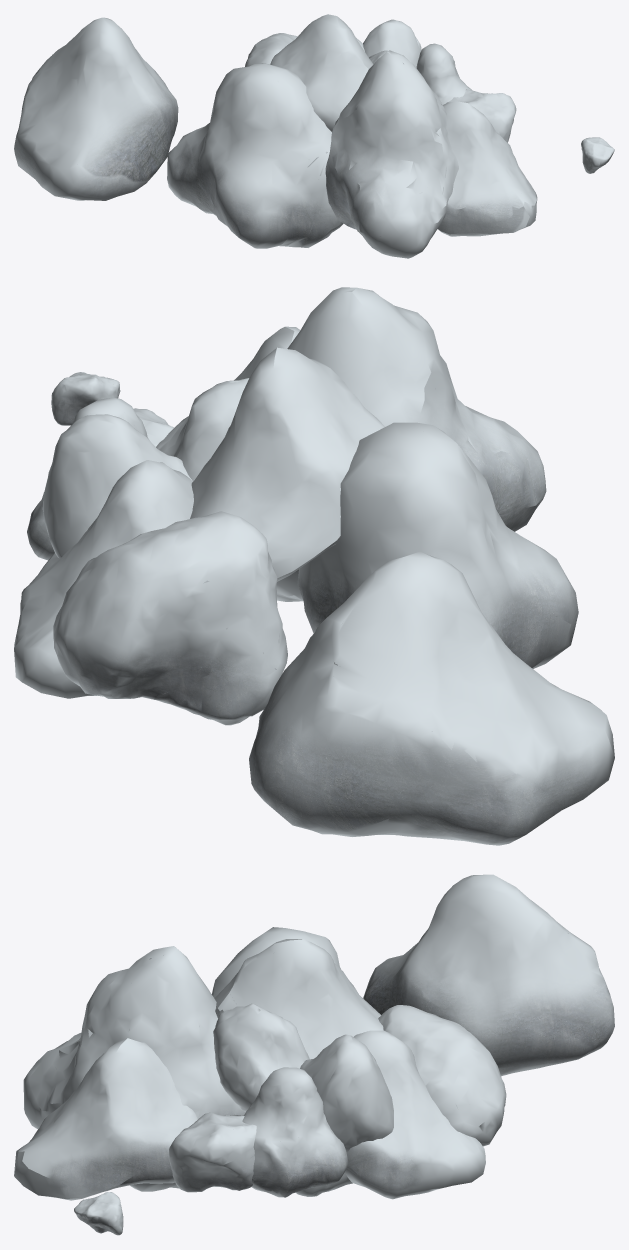
File: Mountain.fbx
The picture shows the model from 3 angles, top to bottom: view 1: azimuth 30°, elevation 25°; view 2: azimuth 150°, elevation 25°; view 3: azimuth 270°, elevation 25°; orthographic projection. The views are drawn at different scales.
Visible parts, largest first — view 1: icemountain6, icemountain9, icemountain7, icemountain8, snowymountain1, icemountain1, icenmountain4, icemountain2, icemountain5, rockyice; view 2: icemountain9, icemountain5, icemountain6, snowymountain1, icemountain7, icemountain3, icenmountain4, snowymountain2, rockyice, icemountain1, icemountain8, icemountain2; view 3: icemountain9, icemountain8, icemountain7, icemountain3, snowymountain1, icemountain1, icemountain5, icenmountain4, snowymountain2, icemountain2, icemountain6, rockyice.
Boxes of the visible parts, <box> form: icemountain6: <box>167,63,343,248</box>; icemountain9: <box>14,17,178,200</box>; icemountain7: <box>325,50,458,258</box>; icemountain8: <box>437,101,537,236</box>; snowymountain1: <box>270,14,373,131</box>; icemountain1: <box>416,43,472,104</box>; icenmountain4: <box>363,19,421,67</box>; icemountain2: <box>447,89,516,142</box>; icemountain5: <box>245,33,297,66</box>; rockyice: <box>581,137,614,173</box>; icemountain9: <box>249,551,614,845</box>; icemountain5: <box>53,511,287,725</box>; icemountain6: <box>297,422,578,668</box>; snowymountain1: <box>190,347,384,581</box>; icemountain7: <box>276,287,546,601</box>; icemountain3: <box>14,460,193,698</box>; icenmountain4: <box>42,414,192,558</box>; snowymountain2: <box>156,378,249,481</box>; rockyice: <box>51,372,120,425</box>; icemountain1: <box>27,397,148,560</box>; icemountain8: <box>234,326,300,380</box>; icemountain2: <box>133,408,173,446</box>; icemountain9: <box>363,874,614,1076</box>; icemountain8: <box>14,1038,197,1200</box>; icemountain7: <box>23,946,245,1191</box>; icemountain3: <box>344,1030,485,1199</box>; snowymountain1: <box>214,939,383,1059</box>; icemountain1: <box>242,1067,348,1197</box>; icemountain5: <box>378,1005,506,1146</box>; icenmountain4: <box>296,1034,393,1196</box>; snowymountain2: <box>213,1003,309,1112</box>; icemountain2: <box>169,1112,256,1192</box>; icemountain6: <box>211,927,340,998</box>; rockyice: <box>74,1192,123,1235</box>.
Size of the model in its own units: 12166 by 5265 by 11524.
Materials: 12 (12 with a texture image).
